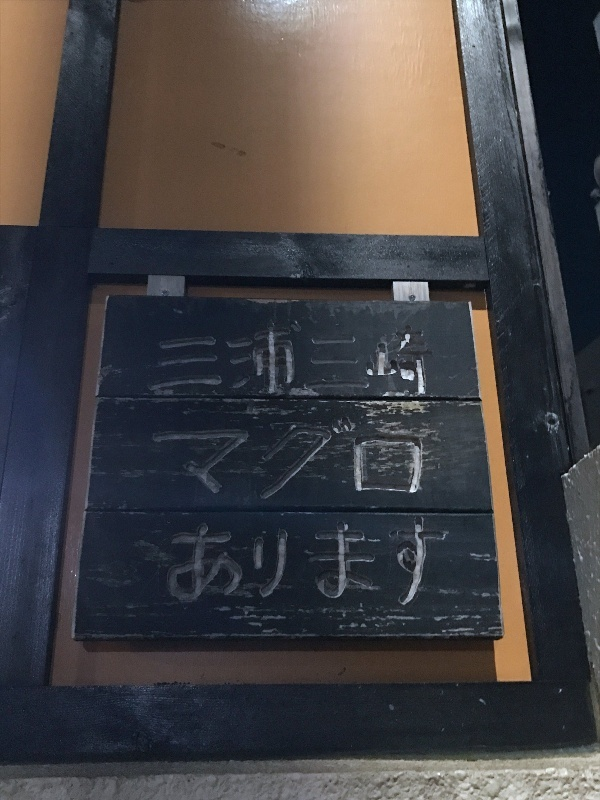text: (177, 516, 192, 609), (193, 516, 208, 609), (209, 516, 224, 609), (225, 516, 240, 609), (241, 516, 256, 609), (257, 516, 272, 609), (273, 516, 288, 609), (289, 516, 304, 609), (305, 516, 320, 609), (321, 516, 336, 609), (337, 516, 352, 609), (353, 516, 368, 609), (369, 516, 384, 609), (385, 516, 400, 609), (401, 516, 416, 609), (417, 516, 432, 609), (433, 516, 448, 609), (161, 422, 176, 500), (177, 422, 192, 500), (193, 422, 208, 500), (209, 422, 224, 500), (225, 422, 240, 500), (241, 422, 256, 500), (257, 422, 272, 500), (273, 422, 288, 500), (289, 422, 304, 500), (305, 422, 320, 500), (321, 422, 336, 500), (337, 422, 352, 500), (353, 422, 368, 500), (369, 422, 384, 500), (385, 422, 400, 500), (401, 422, 416, 500), (161, 327, 176, 403), (177, 327, 192, 403), (193, 327, 208, 403), (209, 327, 224, 403), (225, 327, 240, 403), (241, 327, 256, 403), (257, 327, 272, 403), (273, 327, 288, 403), (289, 327, 304, 403), (305, 327, 320, 403), (321, 327, 336, 403), (337, 327, 352, 403), (353, 327, 368, 403), (369, 327, 384, 403), (385, 327, 400, 403), (401, 327, 416, 403), (417, 327, 430, 403), (417, 422, 428, 500), (154, 422, 160, 500), (171, 516, 176, 609), (157, 327, 160, 403)
